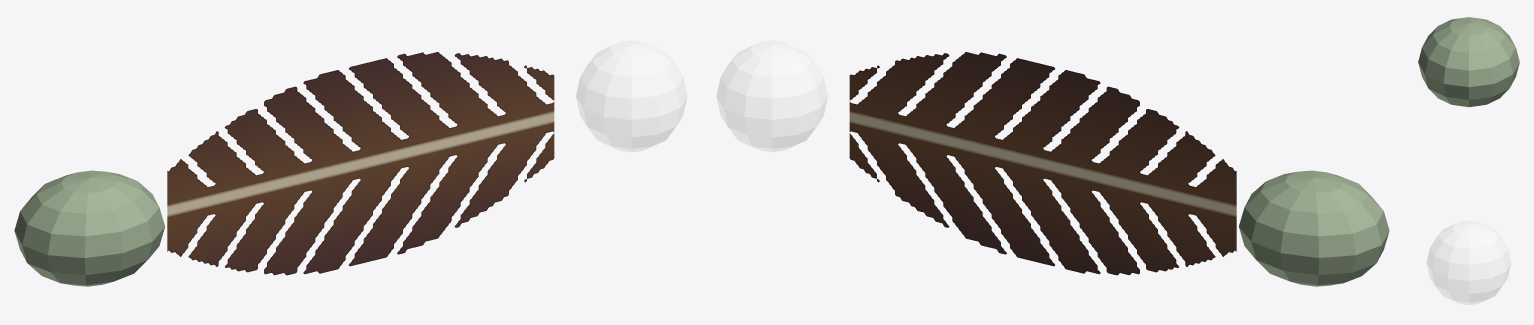
Rendered from card.glb.
The picture shows the model from 3 angles, left to right: view 1: azimuth 30°, elevation 25°; view 2: azimuth 150°, elevation 25°; view 3: azimuth 270°, elevation 25°; orthographic projection. The views are drawn at different scales.
Parts seen in each view (by area): view 1: Card, Pebble, Bead; view 2: Card, Pebble, Bead; view 3: Pebble, Bead.
Boxes of the visible parts, <box> form: Card: <box>167,52,554,275</box>; Pebble: <box>14,170,164,286</box>; Bead: <box>576,41,687,151</box>; Card: <box>849,52,1236,275</box>; Pebble: <box>1239,170,1389,286</box>; Bead: <box>716,41,827,151</box>; Pebble: <box>1418,17,1519,107</box>; Bead: <box>1427,221,1510,304</box>.
Bounding box in the file's own units: 3.4 × 1 × 0.6.
3 materials, 1 textured.
